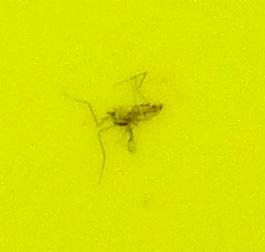Nematocera: (100, 100, 165, 152)
